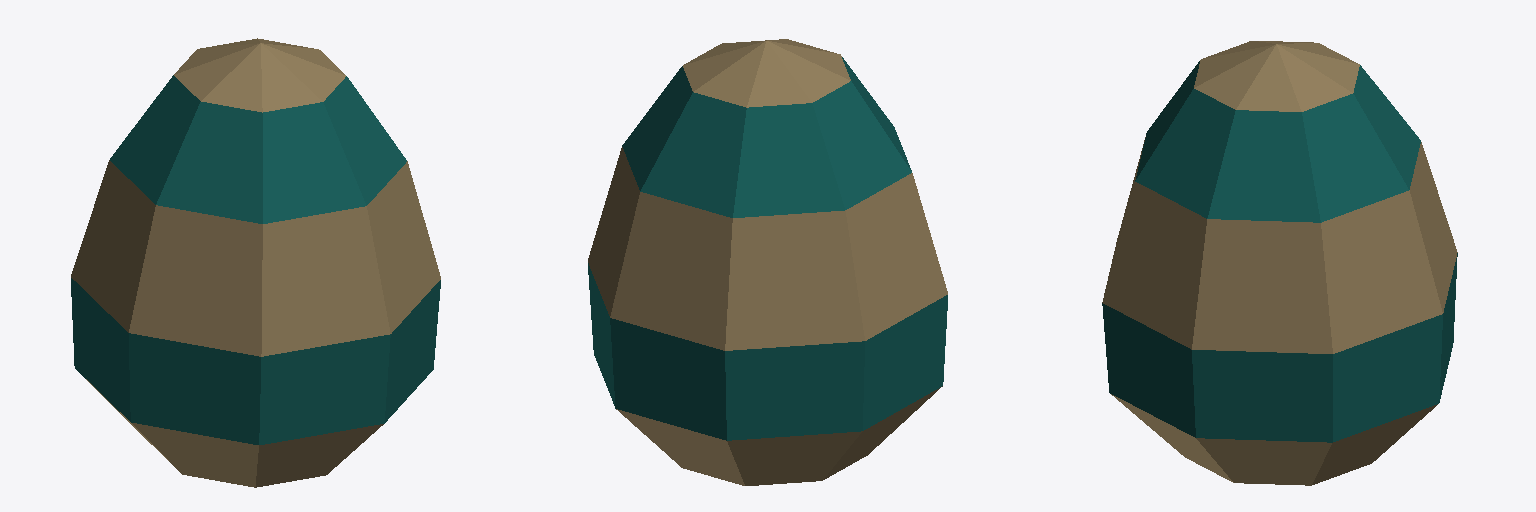
File: huevo6.obj
3 views of the same model, side by side, from view 1: azimuth 30°, elevation 25°; view 2: azimuth 150°, elevation 25°; view 3: azimuth 270°, elevation 25° (orthographic).
Parts seen in each view (by area): view 1: Object_0.002; view 2: Object_0.002; view 3: Object_0.002.
Part boxes in pixels (x1,y1,x2,y2): Object_0.002: (71,38,440,487); Object_0.002: (588,39,947,485); Object_0.002: (1102,41,1457,485).
Bounding box in the file's own units: 0.3904 × 0.5173 × 0.3904.